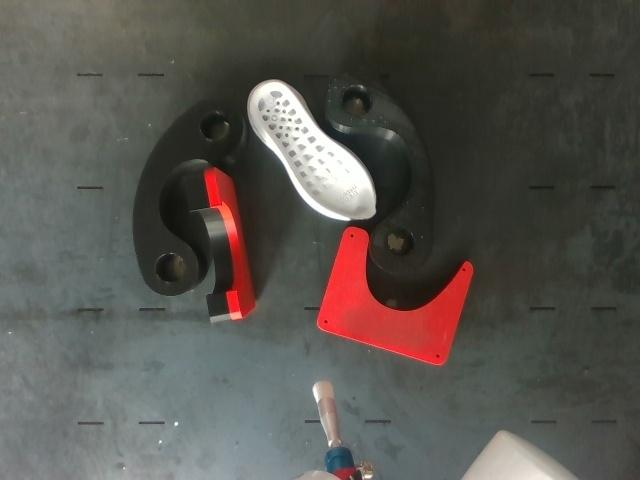shoes: (251, 82, 375, 220)
